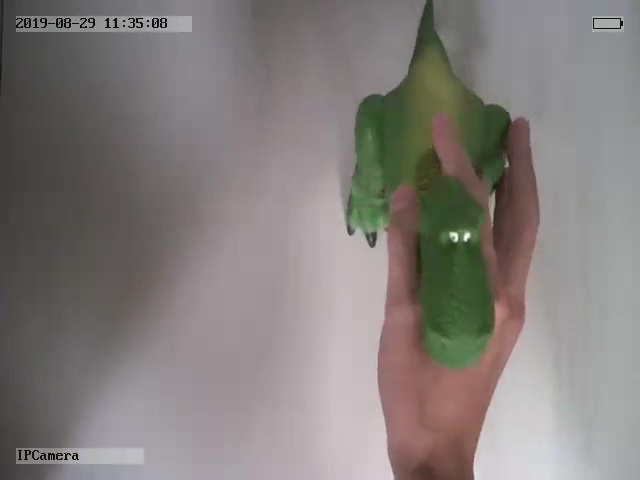rex: (342, 2, 511, 369)
